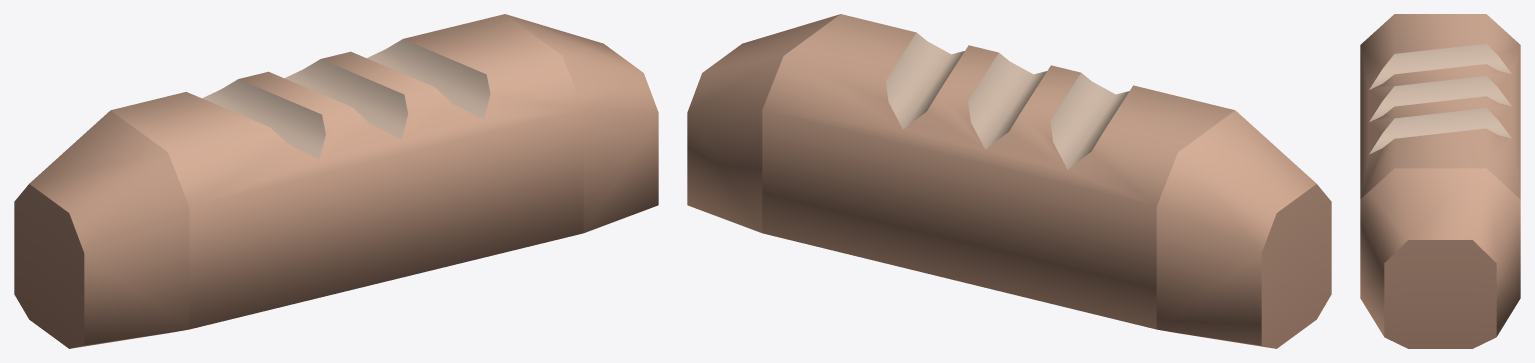
File: loaf-baguette.glb
The picture shows the model from 3 angles, left to right: view 1: azimuth 30°, elevation 25°; view 2: azimuth 150°, elevation 25°; view 3: azimuth 270°, elevation 25°; orthographic projection. The views are drawn at different scales.
Parts seen in each view (by area): view 1: loaf-baguette; view 2: loaf-baguette; view 3: loaf-baguette.
Boxes of the visible parts, x1=… form: loaf-baguette: x1=14, y1=14, x2=658, y2=348; loaf-baguette: x1=687, y1=14, x2=1331, y2=348; loaf-baguette: x1=1360, y1=14, x2=1520, y2=348.
Size of the model in its own units: 0.83 by 0.25 by 0.25.
